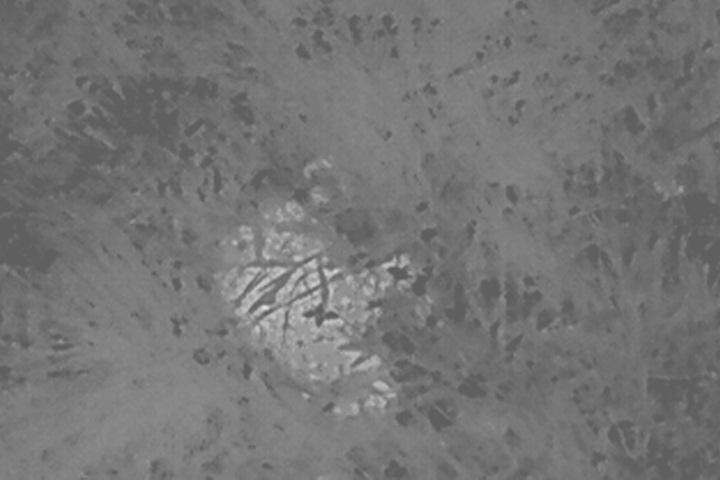landmine: (213, 155, 426, 413)
